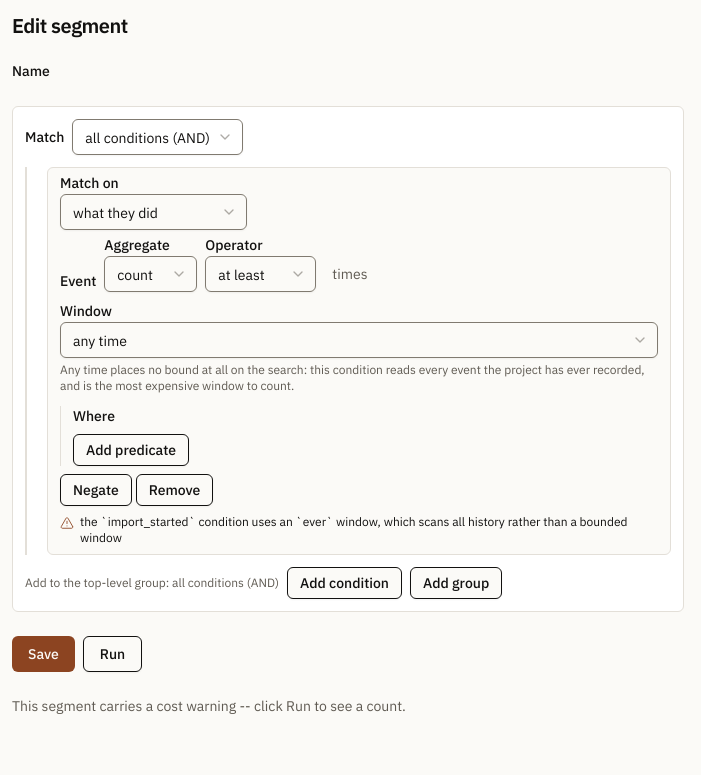
SegmentBuilder -- live counts › an explicit Run previews a tree carrying a cost warning
Check: the element with test id "condition-0" is shown, box [47,167,671,555]
What coordinates should you click on to do the following:
click the button "Run"
I would click on:
 (112, 654)
Its box is [83,636,142,672].
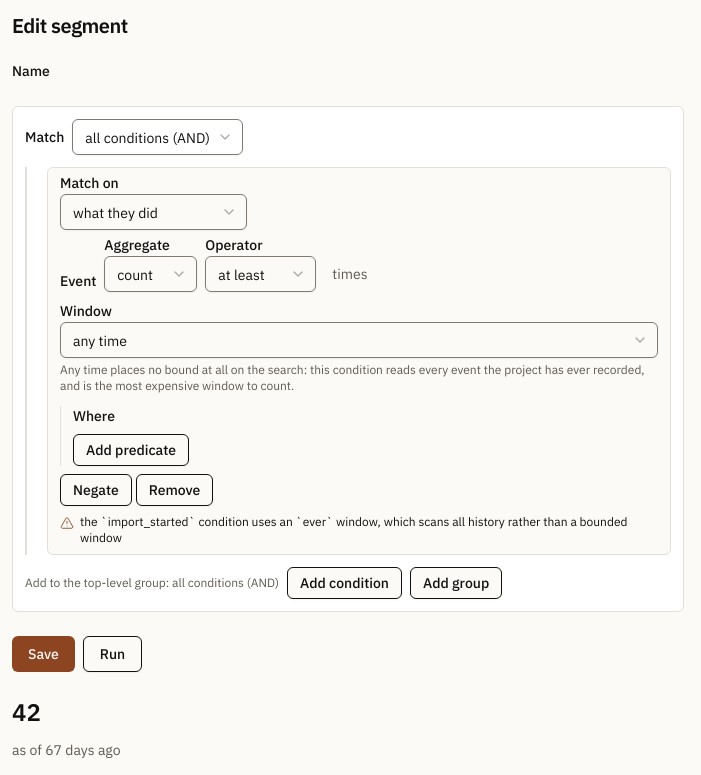
Check: the text with test id "segment-preview-count" reads "42", box [12,696,41,728]
